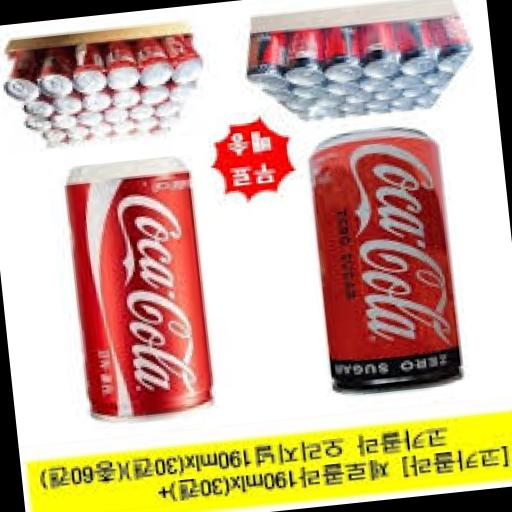Coca: (55, 150, 224, 431)
